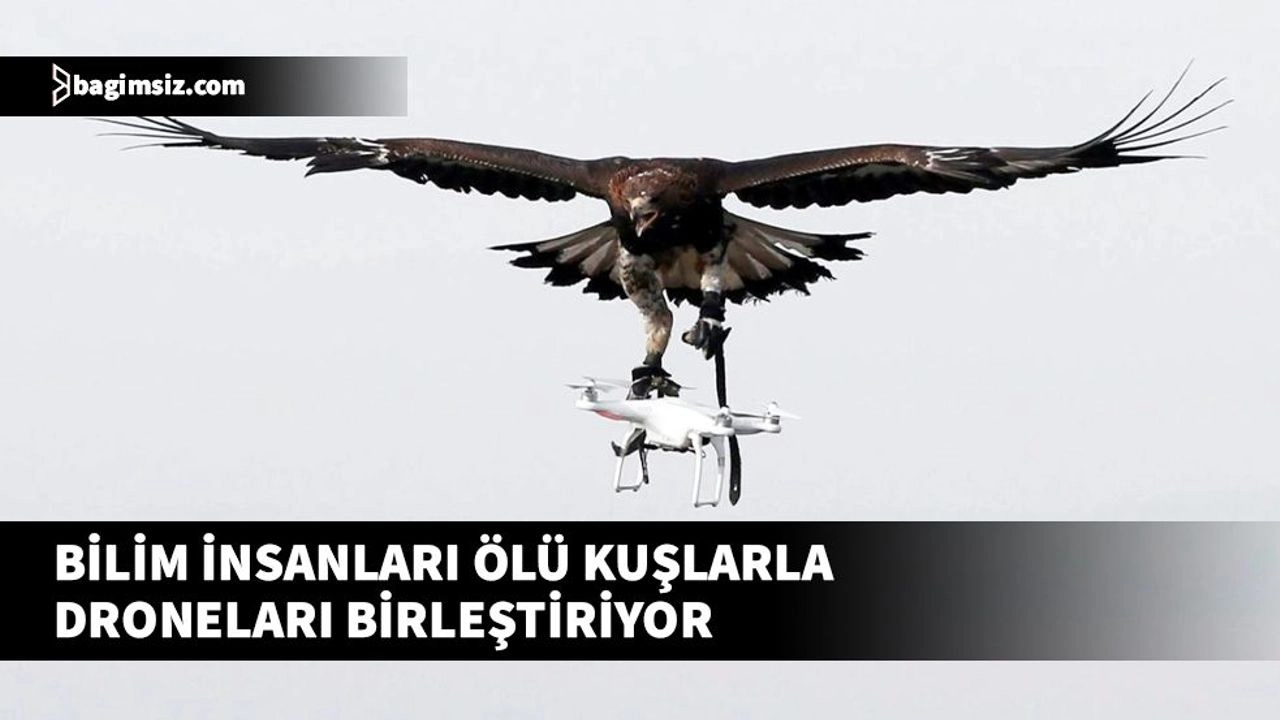Bird: (68, 80, 1280, 402)
UAV: (555, 359, 800, 511)
